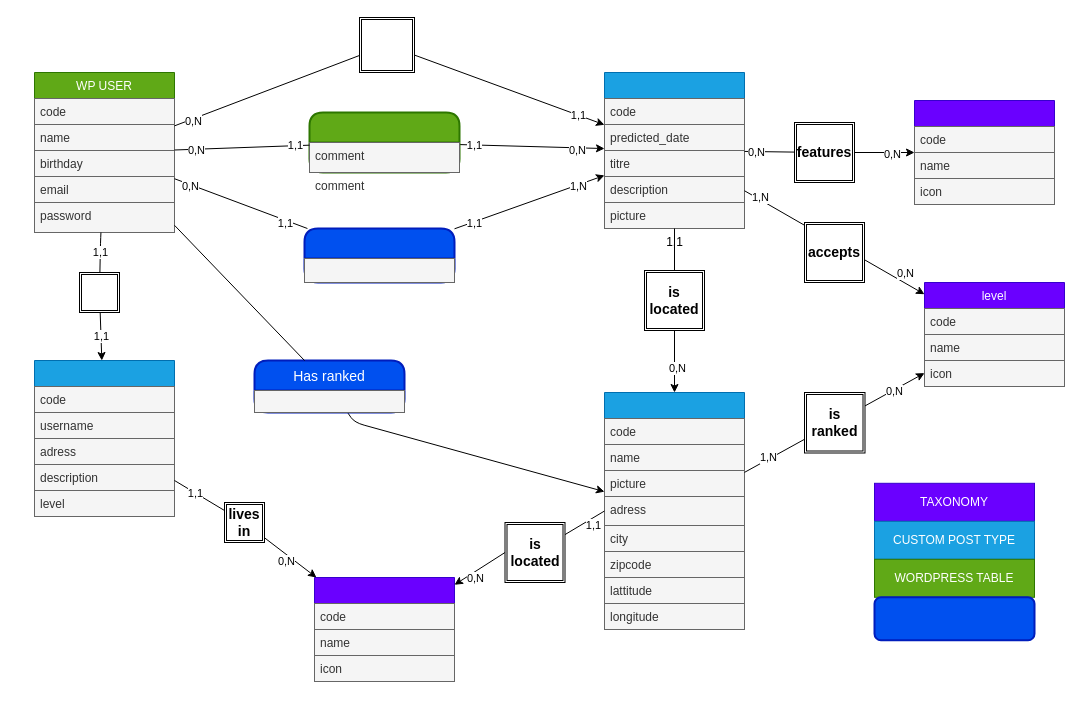
Some shapes in this 1082 by 702 pixel diagram are drawn without their labels. The shapes that lost their labels are listed below. From the top down, each one's box as (x1, y1, x2, y2) in pixels, then its label:
(358, 16, 414, 72): creates
(308, 111, 460, 173): WP COMMENTS
(604, 72, 744, 228): EVENT
(914, 100, 1054, 204): event_discipline
(303, 227, 455, 283): Participation
(78, 272, 120, 312): fills
(254, 390, 404, 412): rank
(34, 360, 174, 516): USER_PROFILE
(604, 392, 744, 630): SPOT
(314, 576, 454, 682): departement
(873, 596, 1035, 641): CUSTOM TABLE
